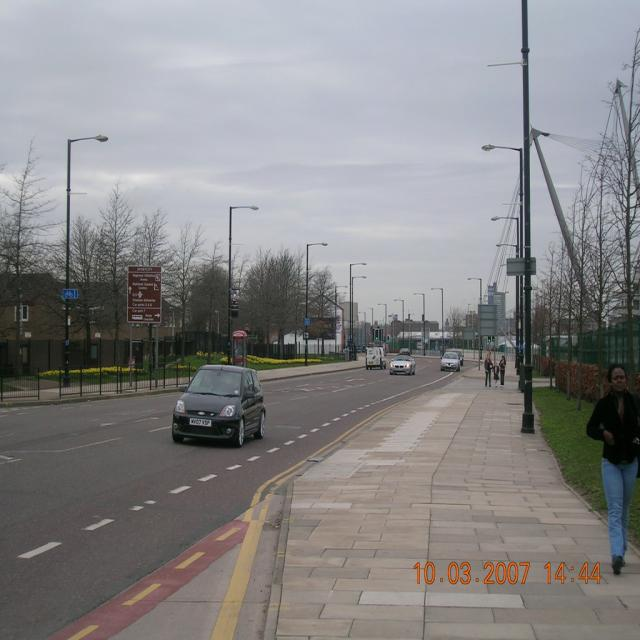car: (168, 360, 264, 451), (390, 356, 414, 371), (444, 351, 461, 366)
